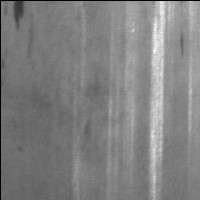inclusion: (10, 1, 28, 32)
scratches: (110, 8, 141, 170), (148, 1, 166, 199)
